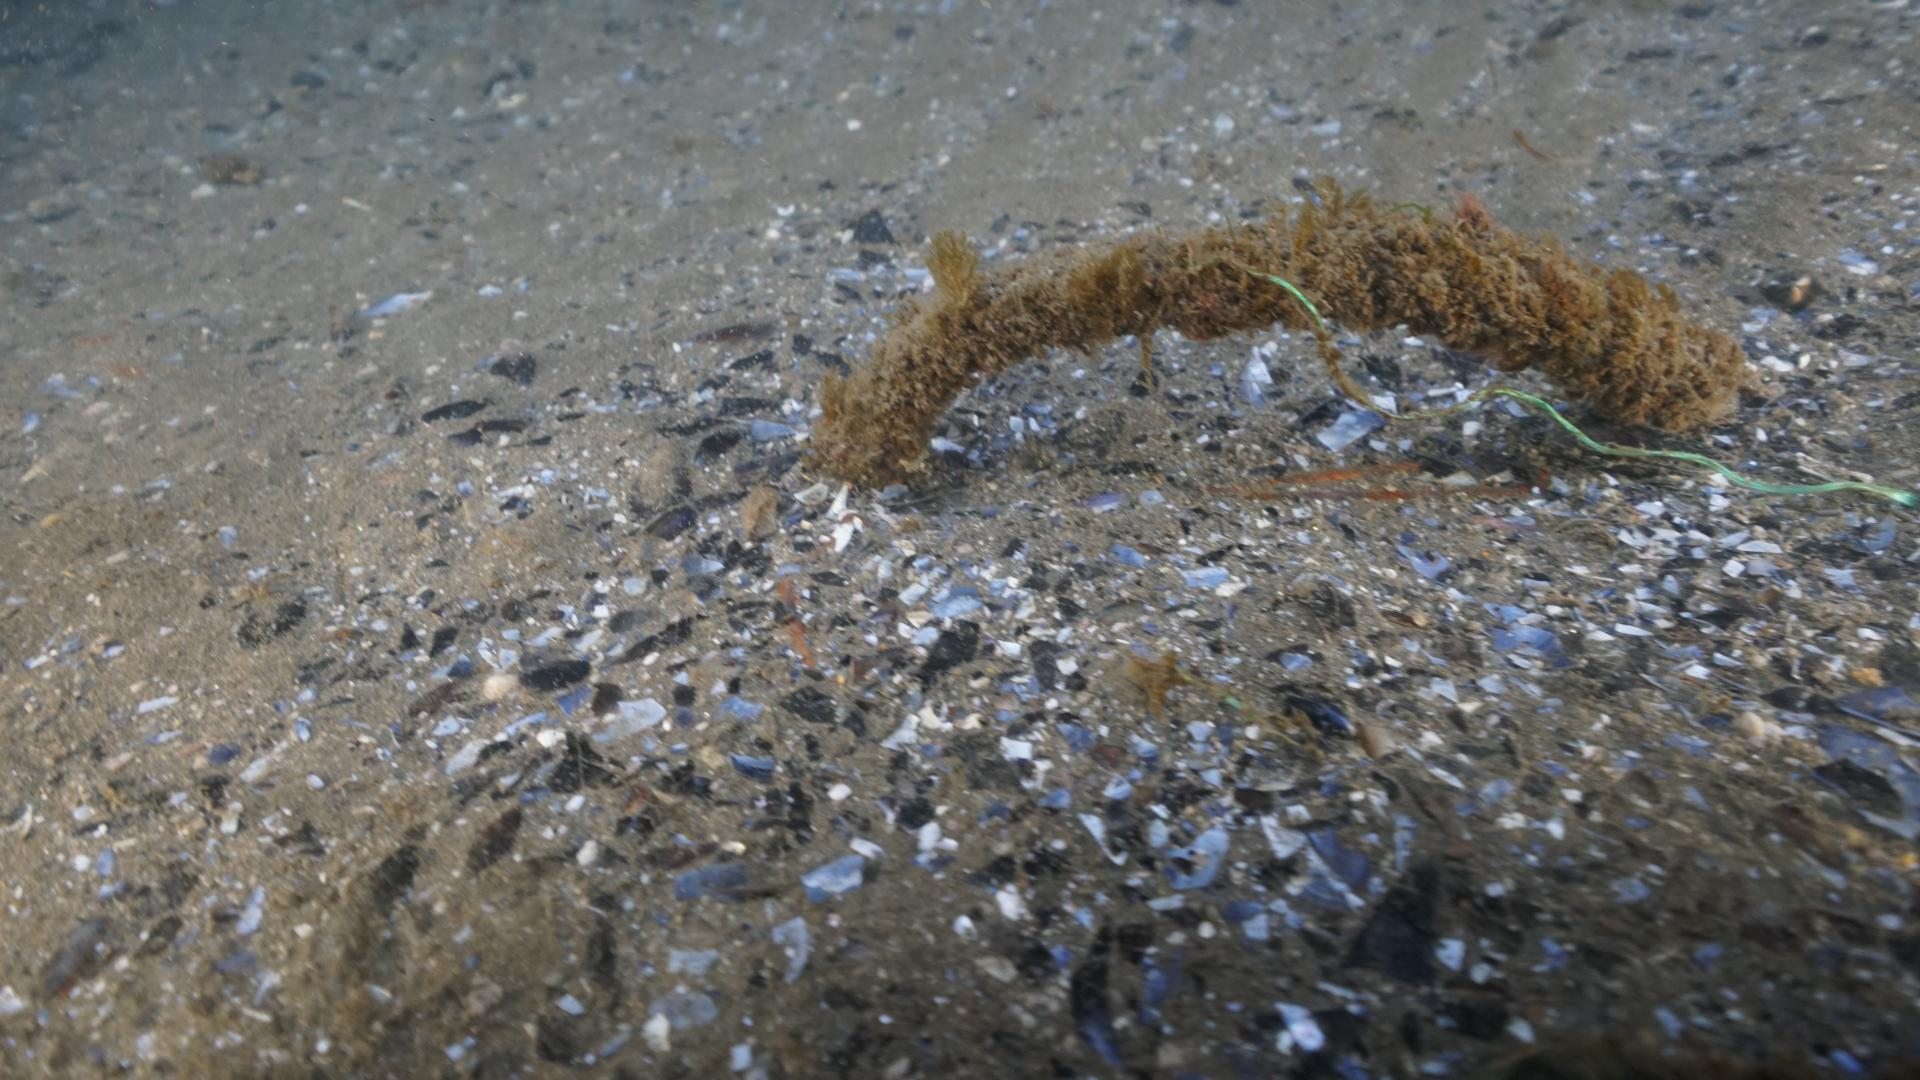rope: (811, 179, 1735, 462)
